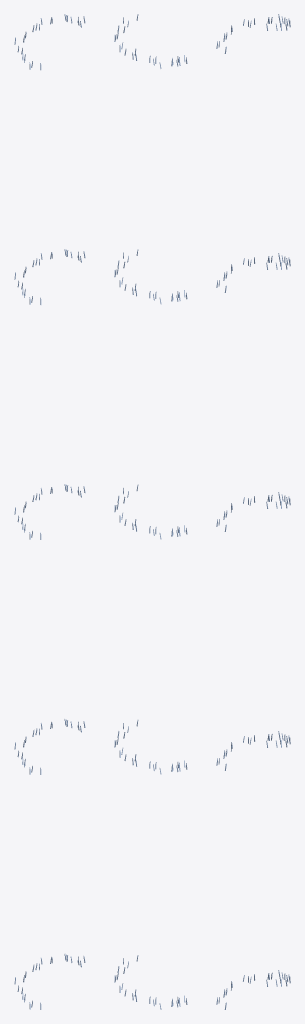
The model's file is Circle9Crowd6.obj.
3 renders of one model, left to right at view 1: azimuth 30°, elevation 25°; view 2: azimuth 150°, elevation 25°; view 3: azimuth 330°, elevation 25°, orthographic.
Visible parts, largest first — view 1: Circle9Crowd6; view 2: Circle9Crowd6; view 3: Circle9Crowd6.
Boxes of the visible parts, left/top/right/bottom form: Circle9Crowd6: left=14, top=14, right=85, bottom=1009; Circle9Crowd6: left=114, top=14, right=187, bottom=1009; Circle9Crowd6: left=216, top=14, right=290, bottom=1009.
Size of the model in its own units: 25.69 by 400 by 19.79.
1 material, 1 textured.
